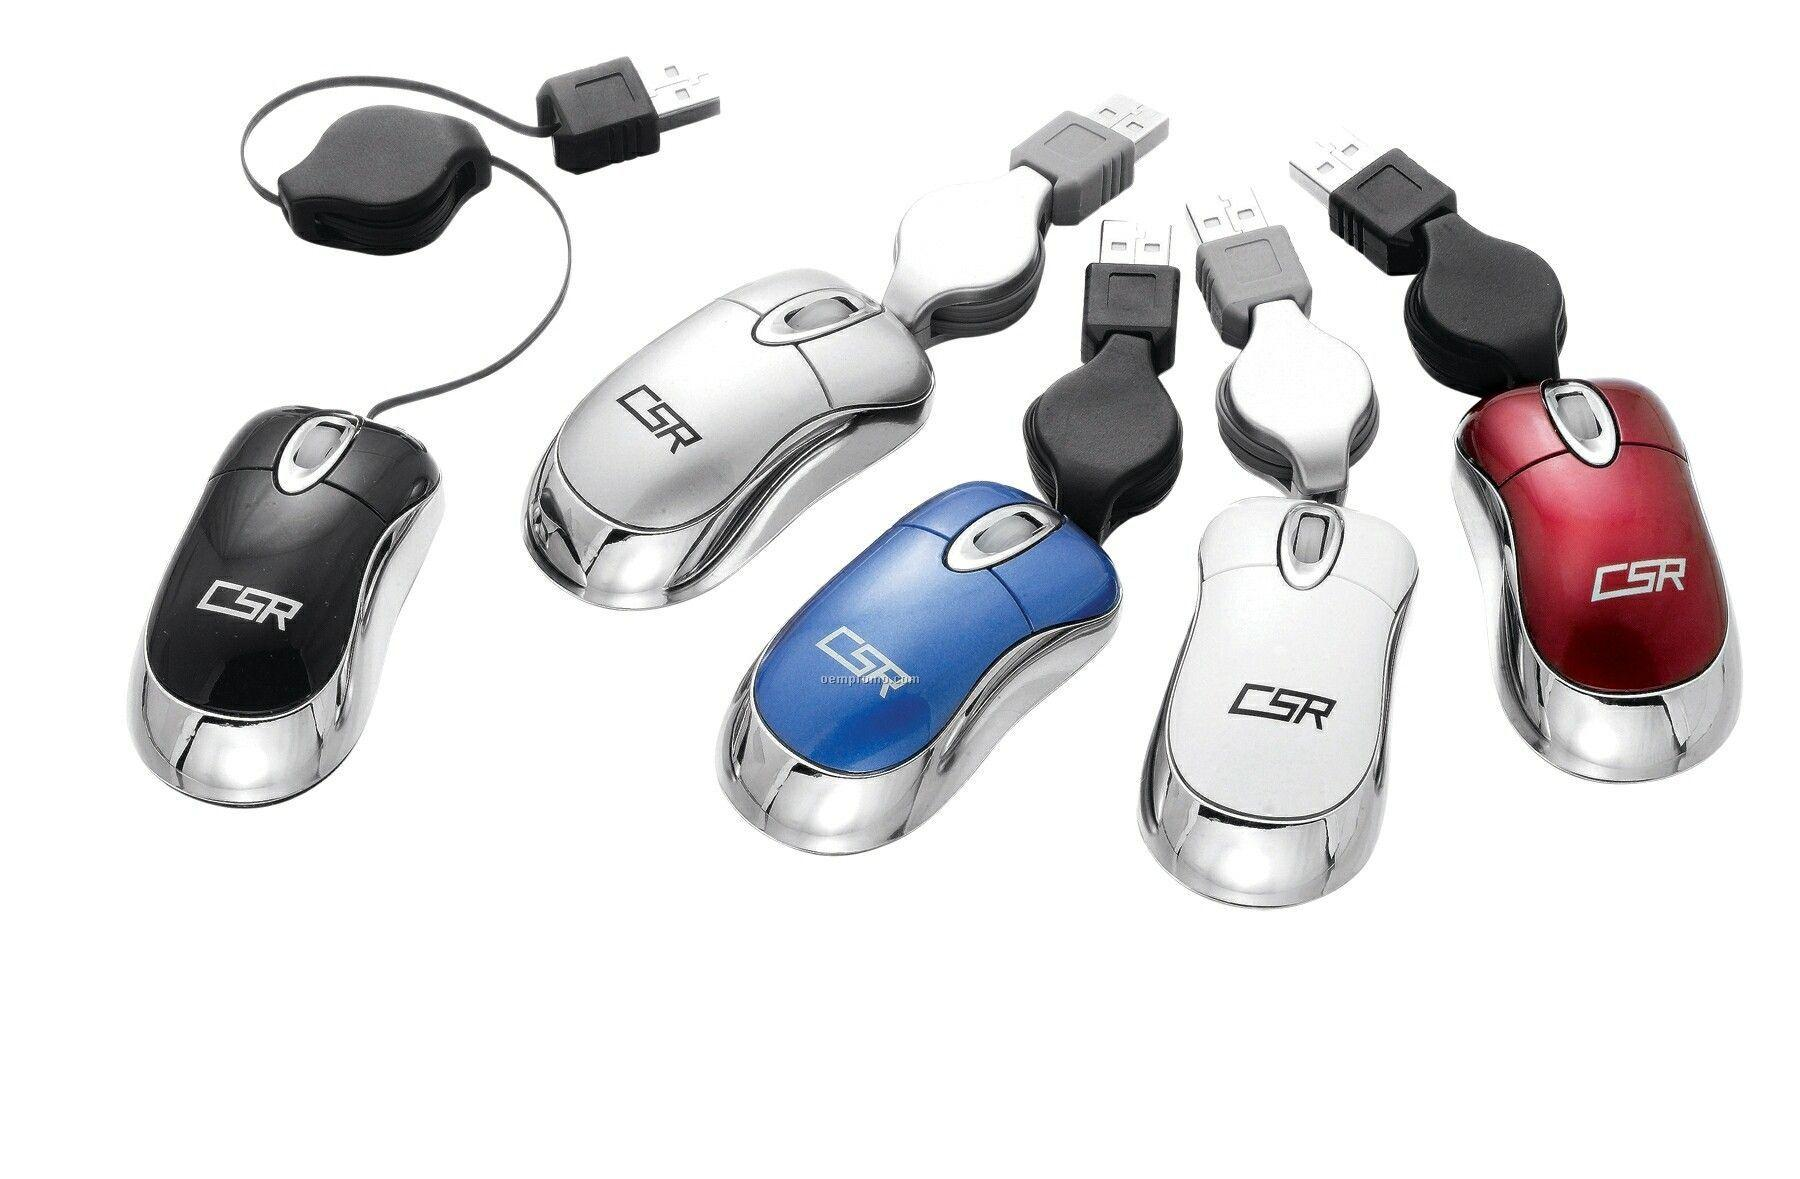computer mouse: (129, 407, 447, 815), (1451, 379, 1739, 784)
